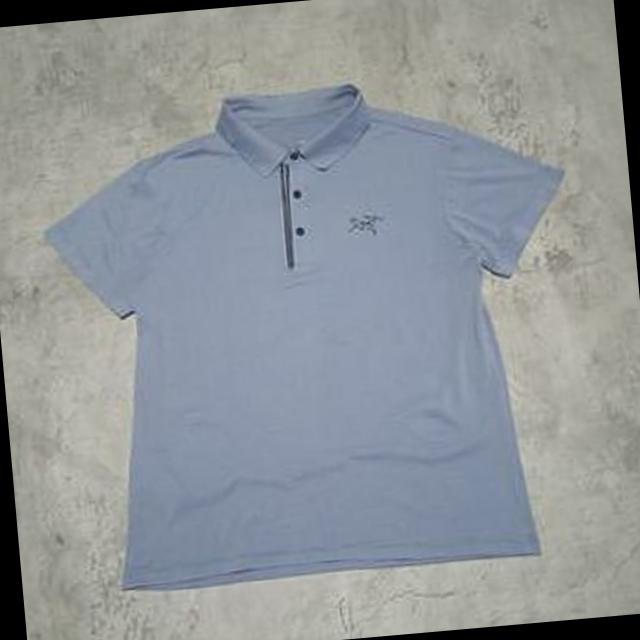T_SHIRT: (28, 54, 601, 606)
